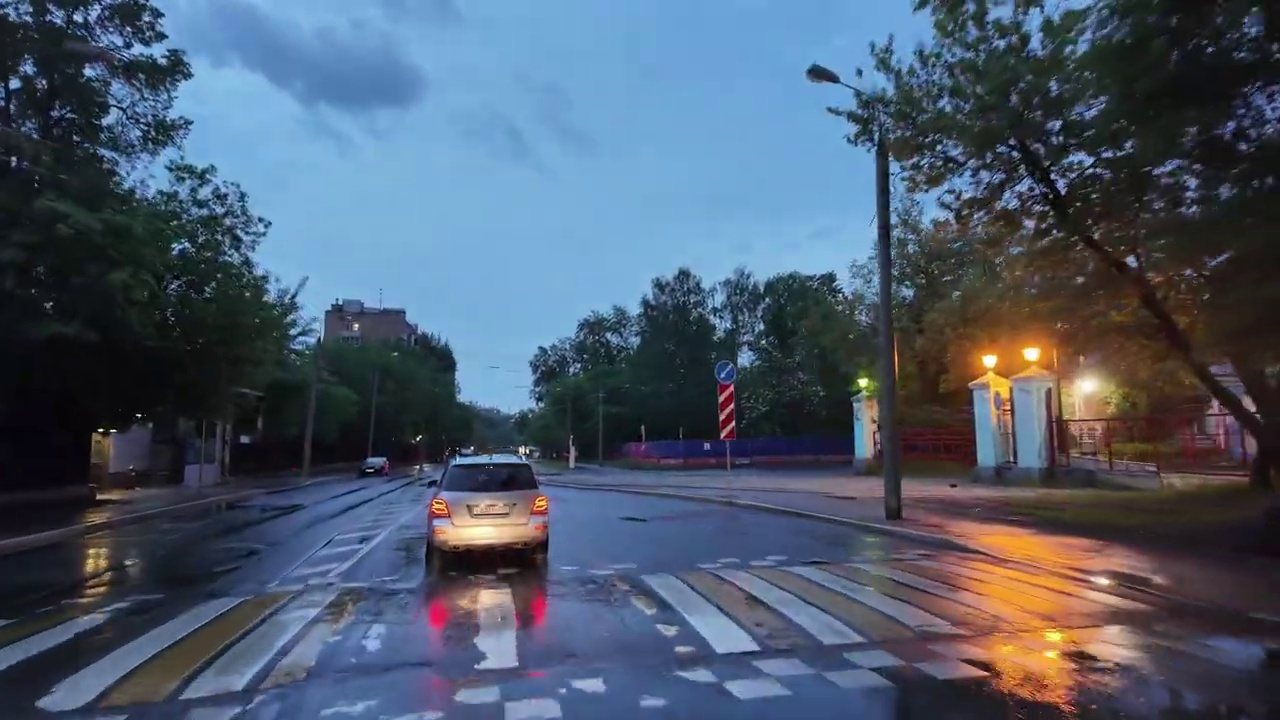apagada: (800, 60, 842, 94)
